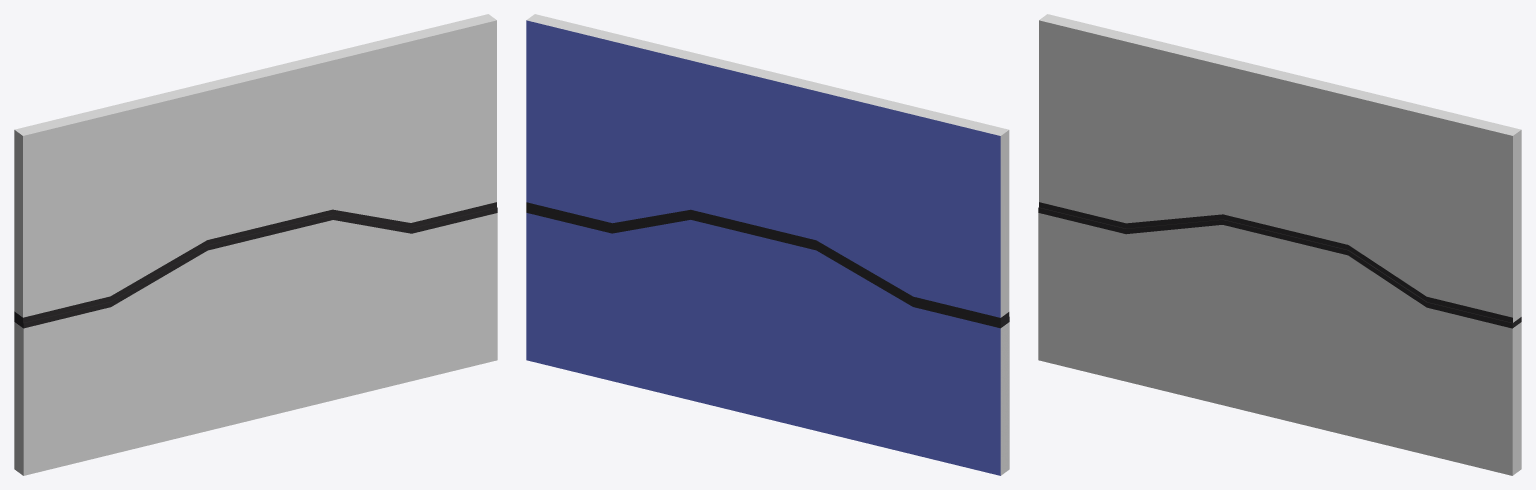
File: VerticalDoubleDoor.fbx
3 renders of one model, left to right at view 1: azimuth 30°, elevation 25°; view 2: azimuth 150°, elevation 25°; view 3: azimuth 330°, elevation 25°, orthographic.
Visible parts, largest first — view 1: RightDoor.002, LeftDoor; view 2: RightDoor.002, LeftDoor; view 3: RightDoor.002, LeftDoor.
Boxes of the visible parts, x1=… form: RightDoor.002: x1=14, y1=14, x2=496, y2=322; LeftDoor: x1=14, y1=207, x2=497, y2=475; RightDoor.002: x1=526, y1=14, x2=1009, y2=323; LeftDoor: x1=526, y1=207, x2=1009, y2=475; RightDoor.002: x1=1039, y1=14, x2=1521, y2=322; LeftDoor: x1=1038, y1=207, x2=1521, y2=475.
Bounding box in the file's own units: 554 × 380 × 18.35.
